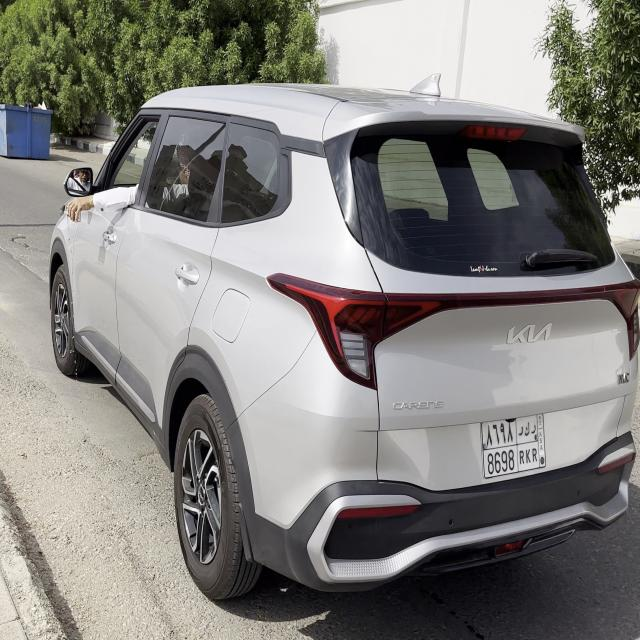Car-plate: (469, 405, 552, 483)
